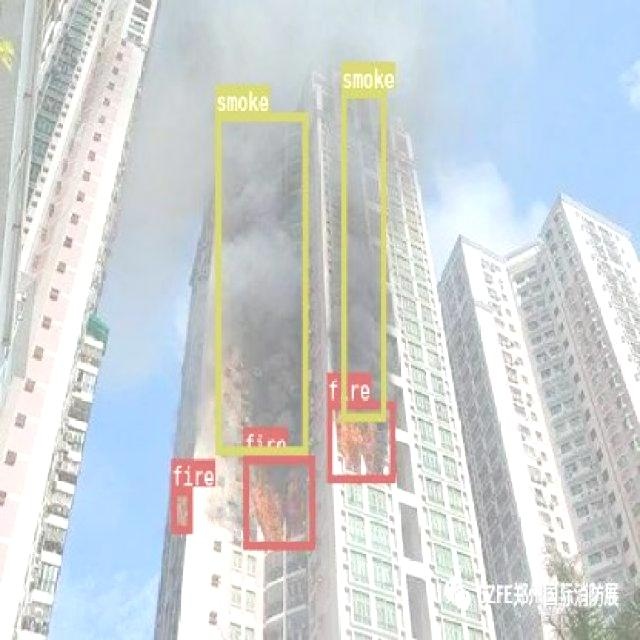fire: (241, 454, 314, 548), (326, 400, 394, 480), (171, 486, 192, 532)
smoke: (214, 111, 306, 452), (340, 88, 385, 420)
